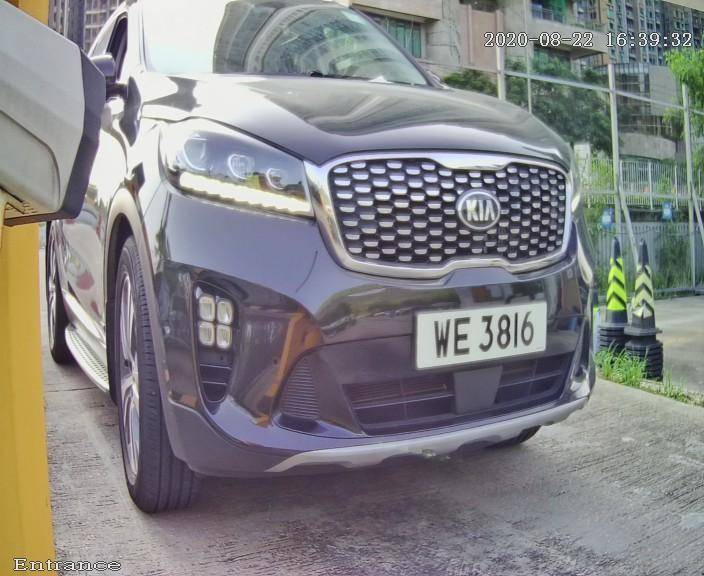Car: (23, 1, 651, 523)
License Plate: (397, 276, 567, 392)
